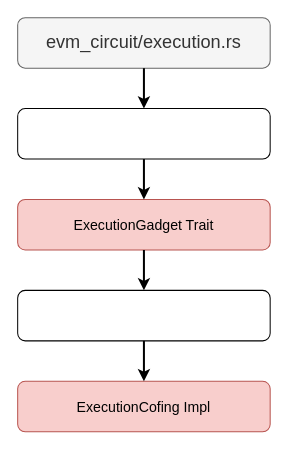
The diagram is 288 pixels wide and 449 high, and some of its shapes have lost their labels. The shapes that lost their labels are listed below. From the top down, each one's centre as x and y in pixels, then its label:
point (143, 133): use & mod 导入对应文件和gadget
point (143, 315): ExecutionCofing Struct
